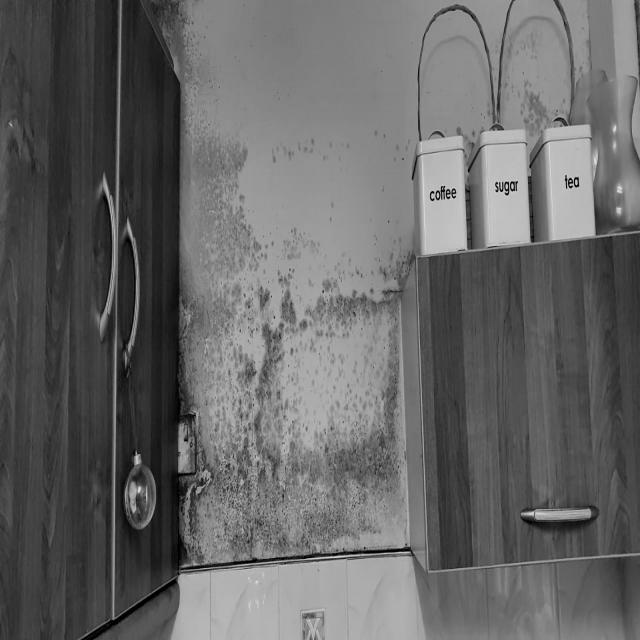stain marks: (171, 83, 252, 576), (305, 252, 361, 556), (360, 248, 414, 549), (251, 308, 305, 560), (260, 121, 359, 175), (253, 228, 313, 308), (154, 0, 191, 74), (370, 118, 414, 174), (520, 84, 554, 146), (502, 18, 542, 62), (503, 69, 516, 122)
